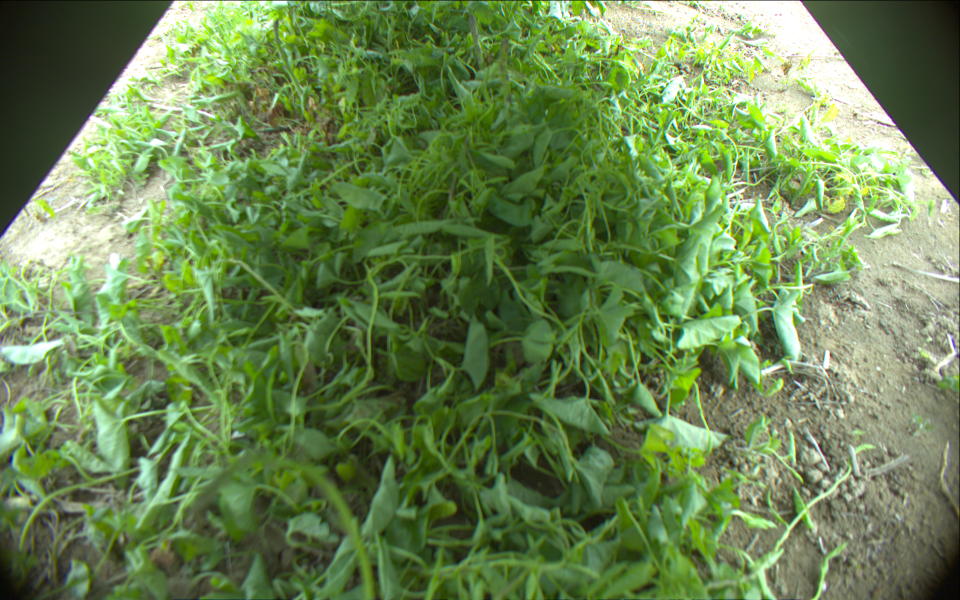aspa: (183, 454, 374, 600), (271, 18, 312, 109), (467, 12, 485, 74)
